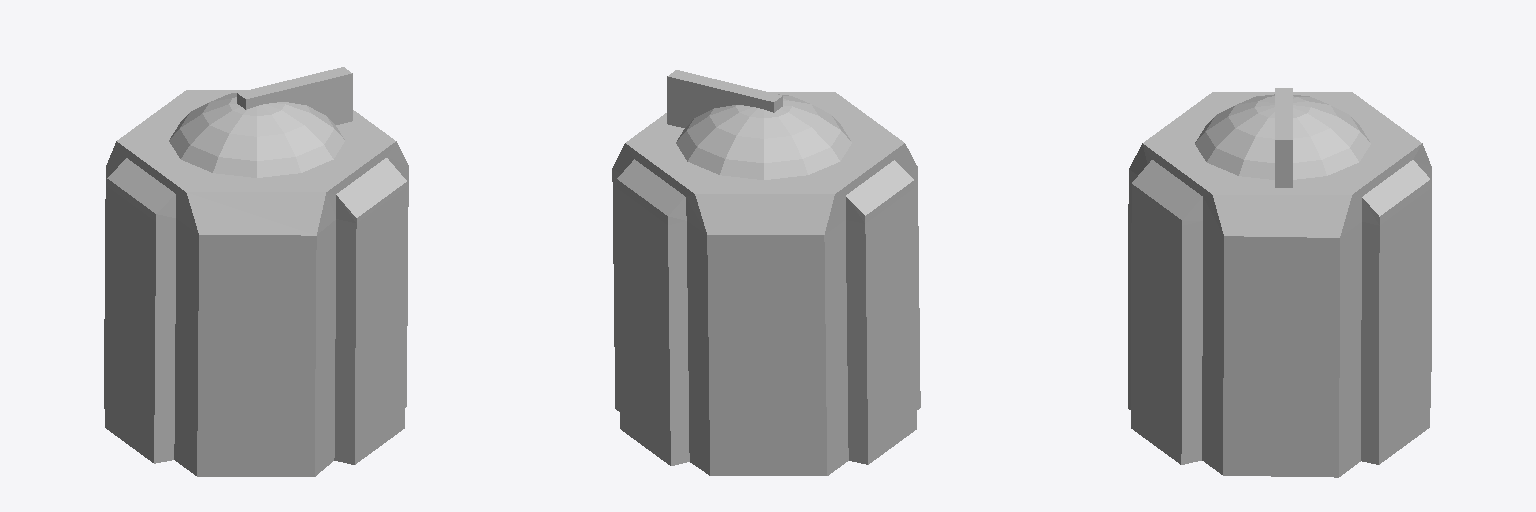
Rendered from bunker.obj.
3 renders of one model, left to right at view 1: azimuth 30°, elevation 25°; view 2: azimuth 150°, elevation 25°; view 3: azimuth 270°, elevation 25°, orthographic.
Visible parts, largest first — view 1: Cylinder, Sphere, Cube_Cube.001; view 2: Cylinder, Sphere, Cube_Cube.001; view 3: Cylinder, Sphere, Cube_Cube.001.
Part boxes in pixels (left/top/right/bottom): Cylinder: left=104, top=90, right=408, bottom=476; Sphere: left=169, top=93, right=344, bottom=177; Cube_Cube.001: left=237, top=67, right=352, bottom=124; Cylinder: left=612, top=92, right=920, bottom=475; Sphere: left=676, top=94, right=851, bottom=179; Cube_Cube.001: left=667, top=70, right=782, bottom=127; Cylinder: left=1128, top=92, right=1431, bottom=477; Sphere: left=1195, top=94, right=1370, bottom=179; Cube_Cube.001: left=1275, top=88, right=1292, bottom=187.
Size of the model in its own units: 32.78 by 40.25 by 34.4.